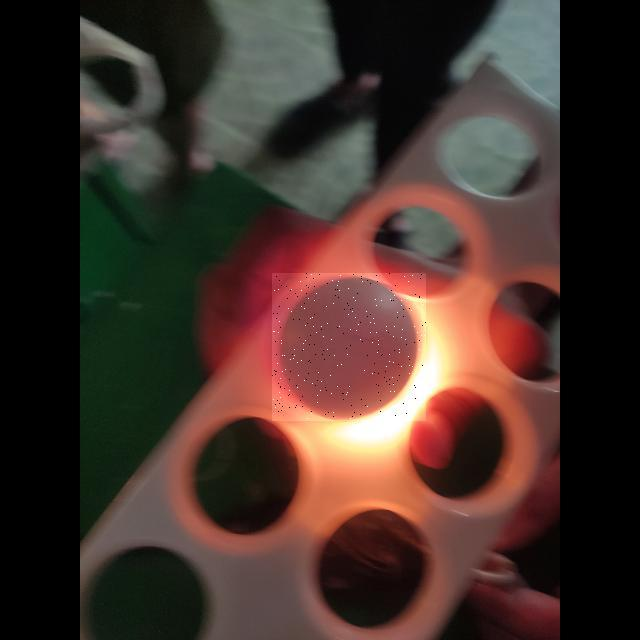Fertile: (272, 273, 426, 421)
